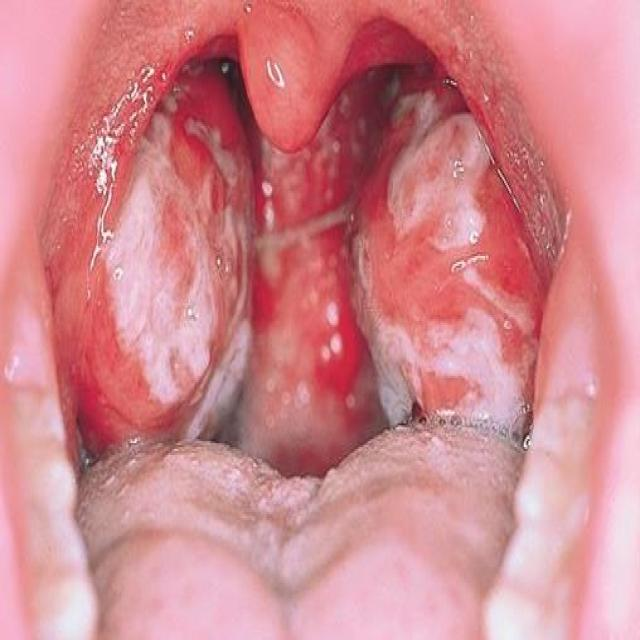pharyngitis: (54, 57, 255, 460), (360, 54, 555, 459), (239, 10, 356, 150)
